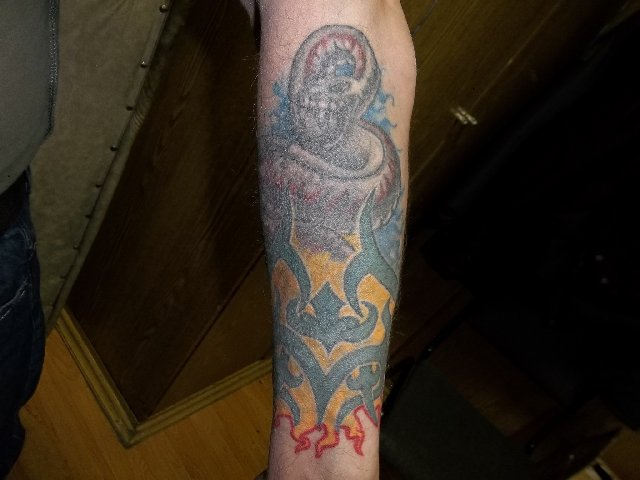tatu7_zmeya: (250, 12, 430, 447)
